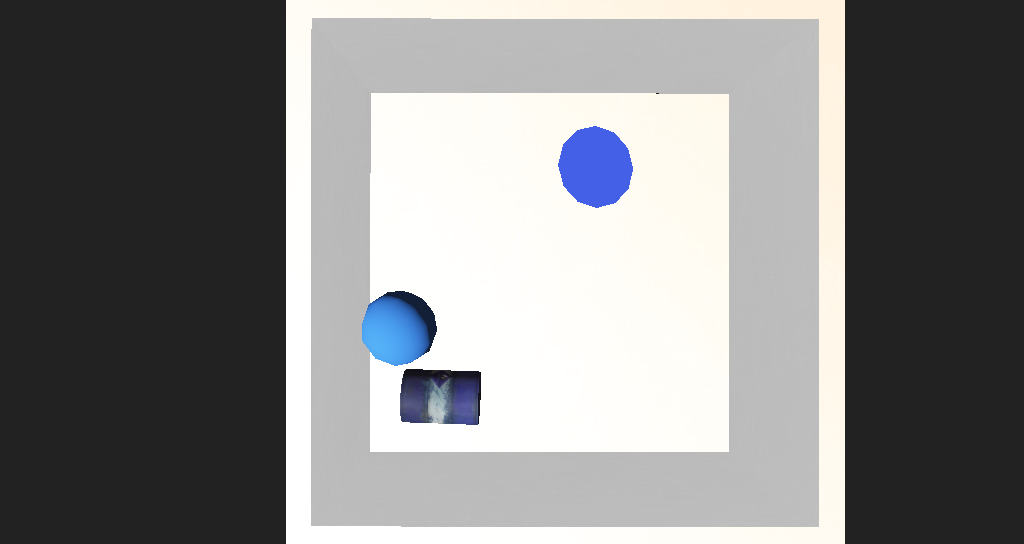cone: (381, 324, 455, 363)
cylinder: (492, 184, 573, 236)
sphere: (344, 277, 411, 324)
